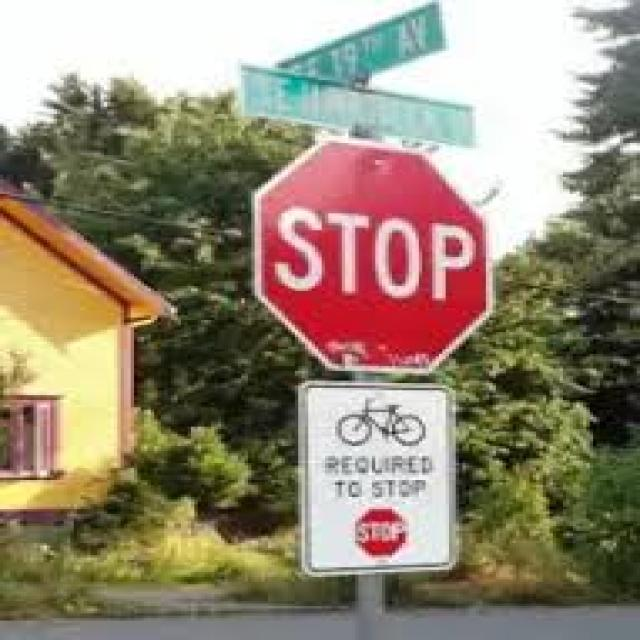stop-sign: (238, 152, 549, 369)
